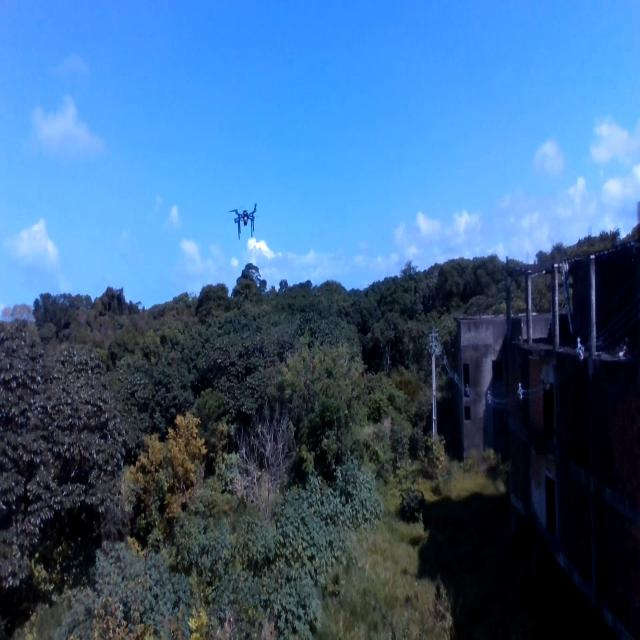-uav-: (226, 191, 271, 255)
